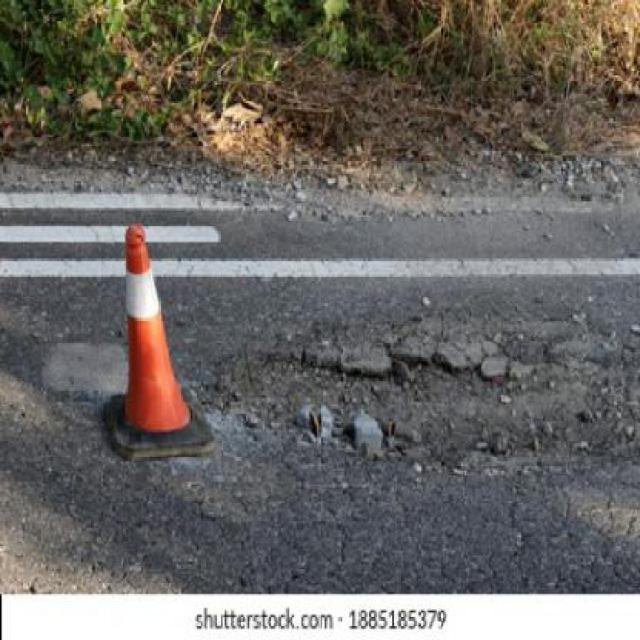pothole: (218, 335, 634, 480)
